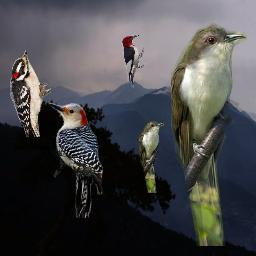Cuckoo: (171, 20, 247, 246), (139, 119, 164, 193)
Woodpecker: (49, 103, 103, 218), (10, 50, 51, 137), (122, 34, 144, 88)
